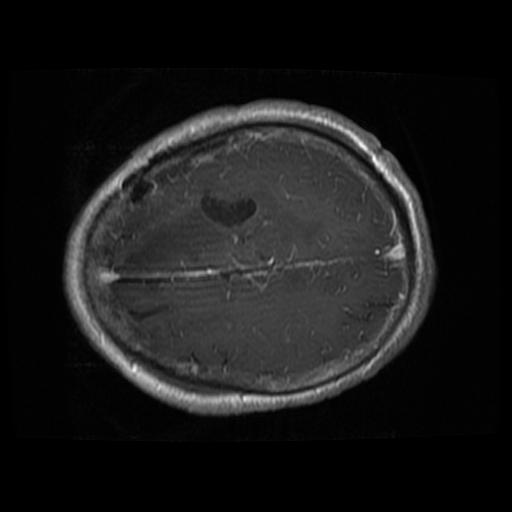glioma: (198, 187, 258, 227)
